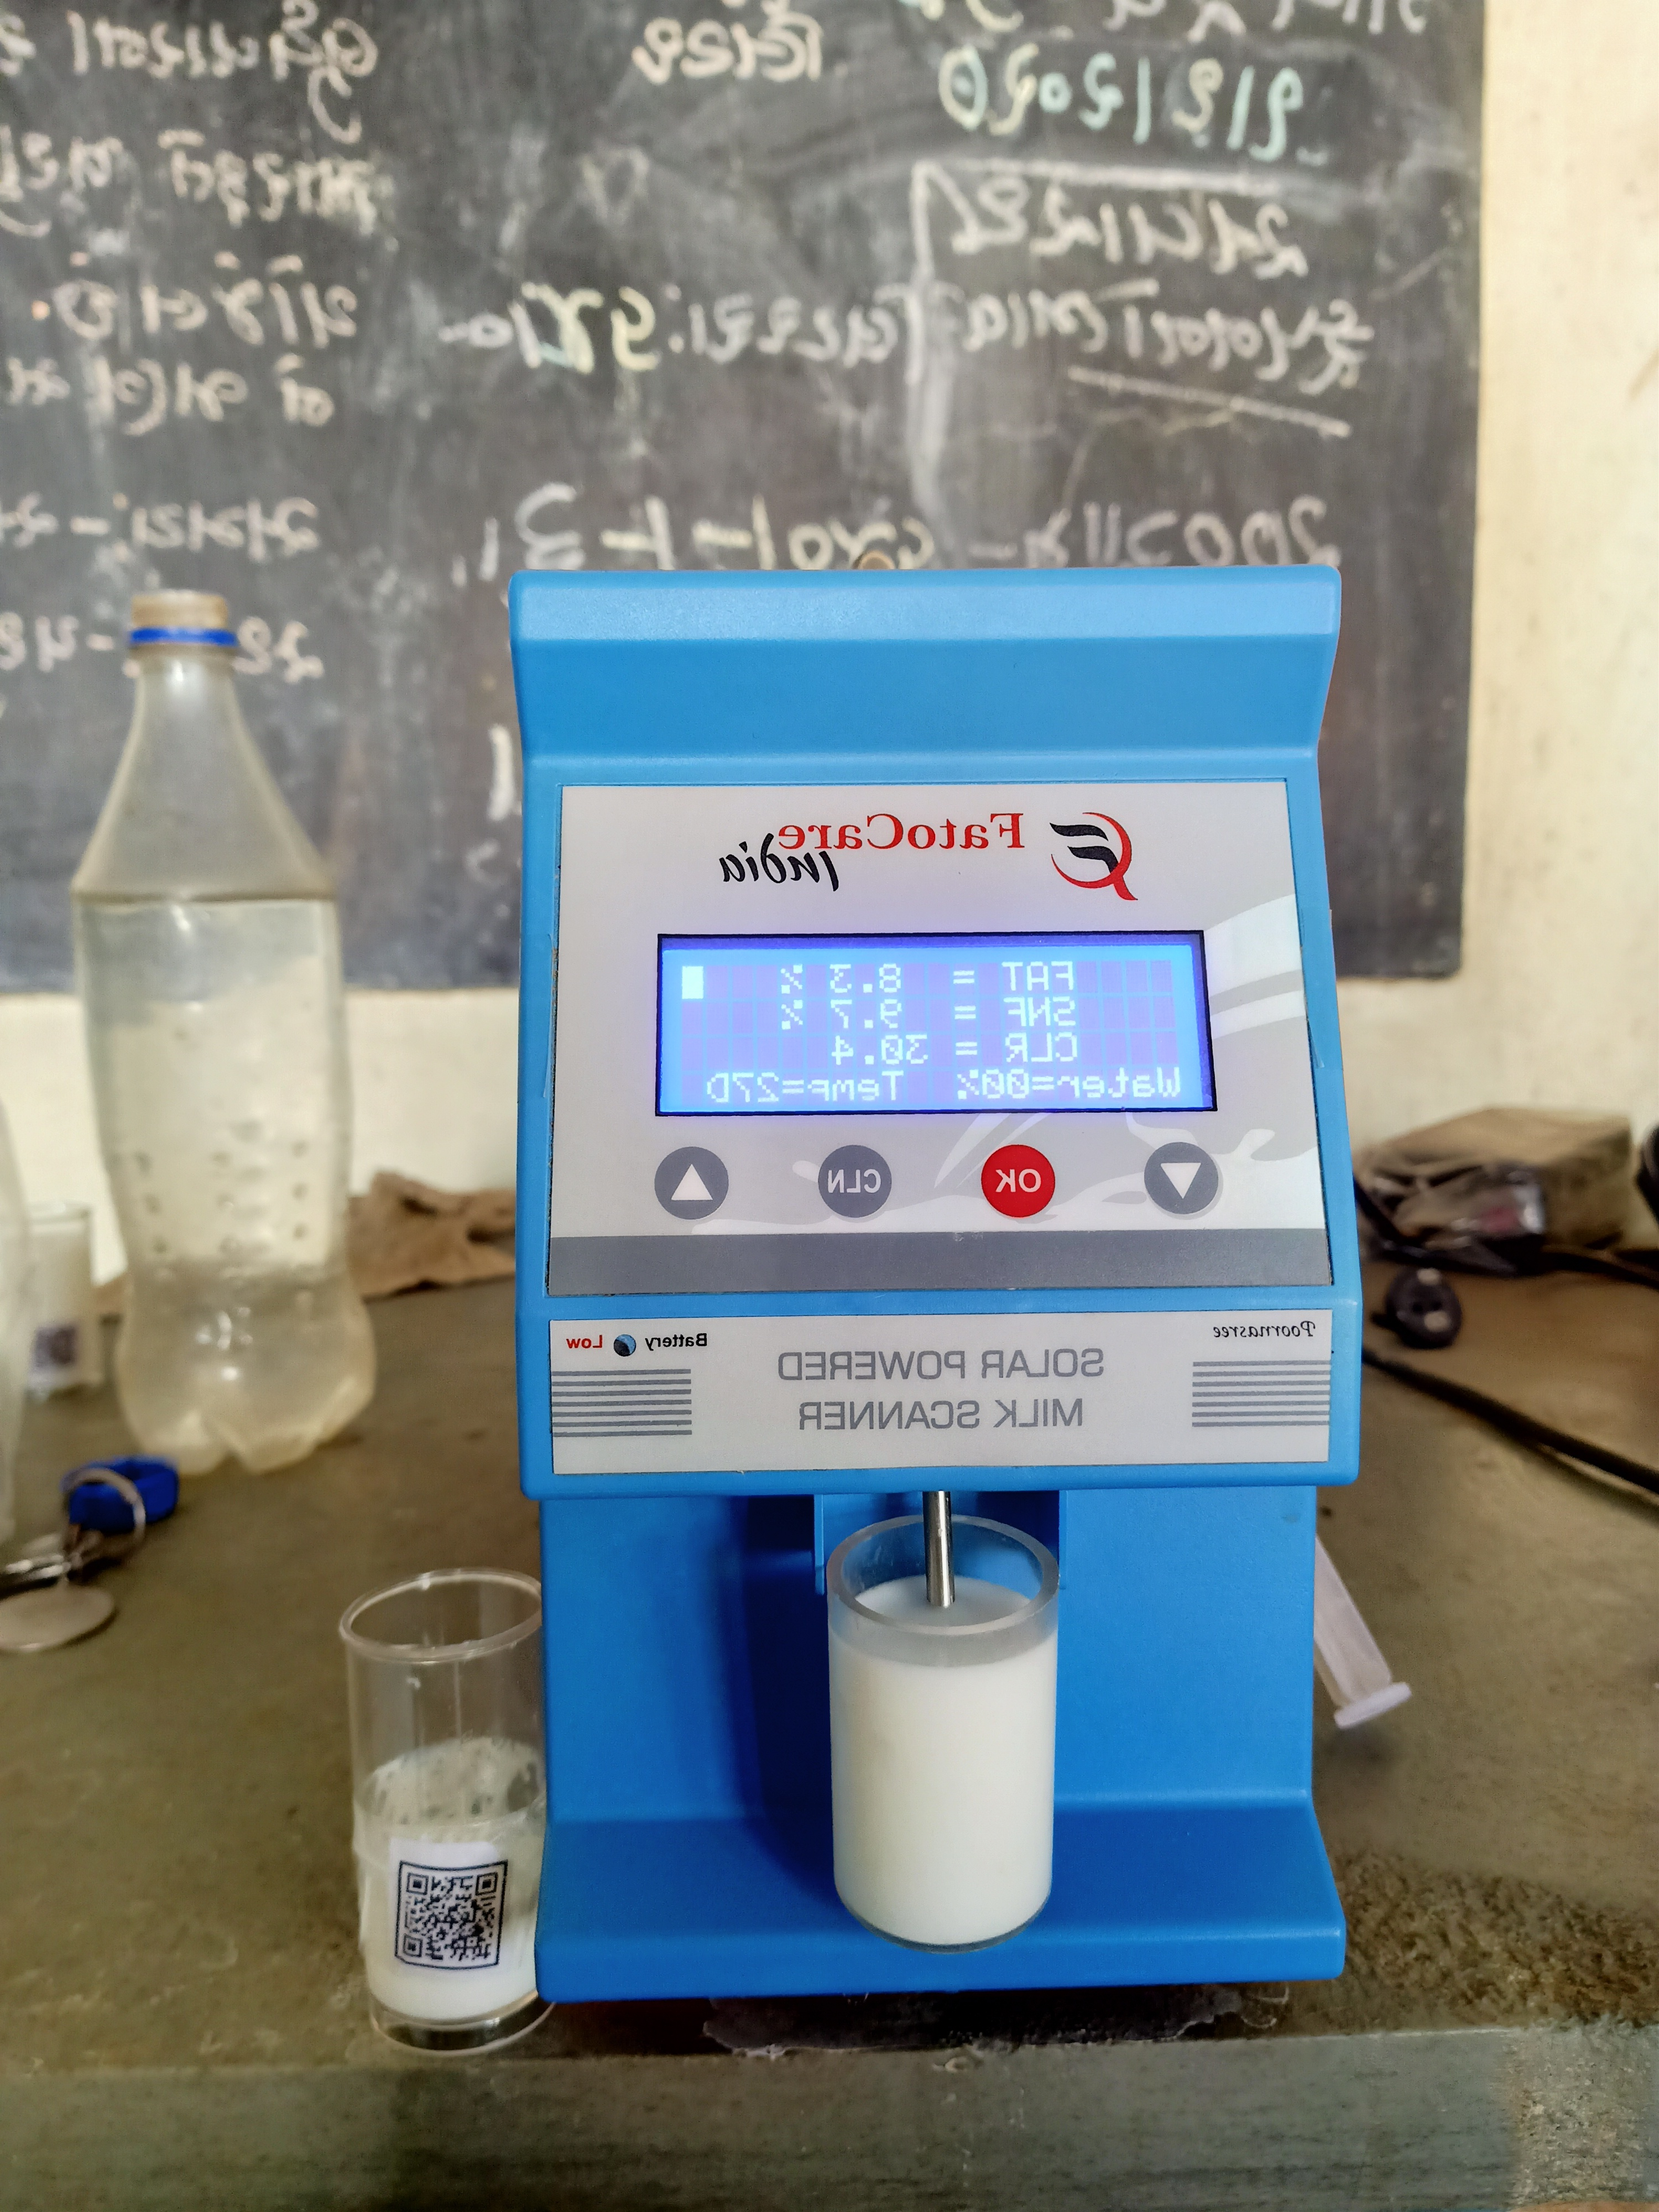lcd: (659, 916, 1239, 1144)
qr: (396, 1857, 516, 1987)
